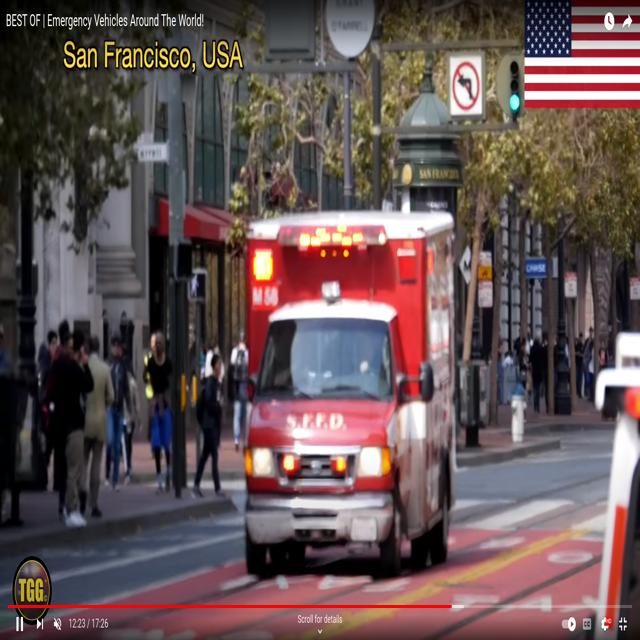emergency-vehicles: (221, 205, 467, 582)
